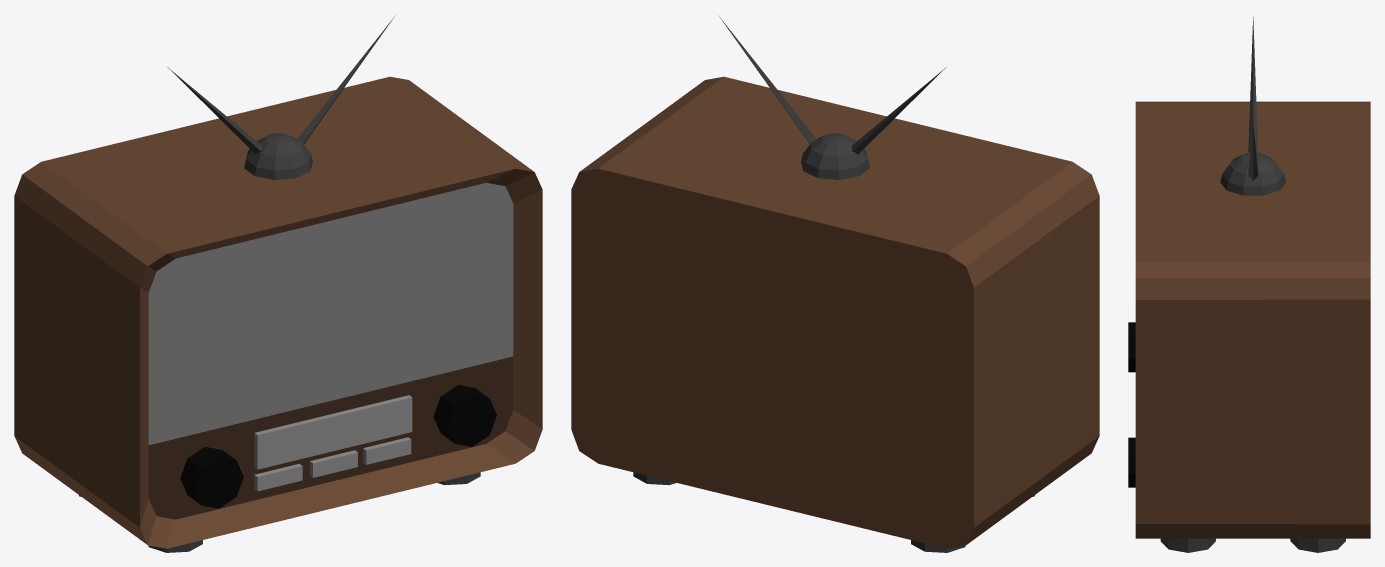
File: Radio.fbx
3 views of the same model, side by side, from view 1: azimuth 30°, elevation 25°; view 2: azimuth 150°, elevation 25°; view 3: azimuth 270°, elevation 25° (orthographic). The views are drawn at different scales.
Visible parts, largest first — view 1: body, speaker, Panel, big bar, mun, mun.001, Top, button.001, button, button.002, radar, radar.001; view 2: body, Top, radar, radar.001; view 3: body, Top, radar.001, Base.001, Base, mun, mun.001, radar.
Part boxes in pixels (<box>): body: <box>14,76,542,548</box>; speaker: <box>148,183,513,445</box>; Panel: <box>148,356,513,519</box>; big bar: <box>254,395,412,469</box>; mun: <box>180,446,243,508</box>; mun.001: <box>433,385,496,446</box>; Top: <box>244,133,312,179</box>; button.001: <box>254,463,302,491</box>; button: <box>363,437,411,464</box>; button.002: <box>310,450,357,477</box>; radar: <box>297,15,395,143</box>; radar.001: <box>167,67,262,154</box>; body: <box>571,76,1099,548</box>; Top: <box>801,133,869,179</box>; radar: <box>718,15,816,143</box>; radar.001: <box>851,67,946,154</box>; body: <box>1135,101,1370,538</box>; Top: <box>1220,152,1285,195</box>; radar.001: <box>1248,16,1258,152</box>; Base.001: <box>1290,538,1345,552</box>; Base: <box>1160,538,1215,552</box>; mun: <box>1128,322,1135,372</box>; mun.001: <box>1128,437,1135,487</box>; radar: <box>1248,123,1258,180</box>.
Bounding box in the file's own units: 26.91 × 28.24 × 15.02.
